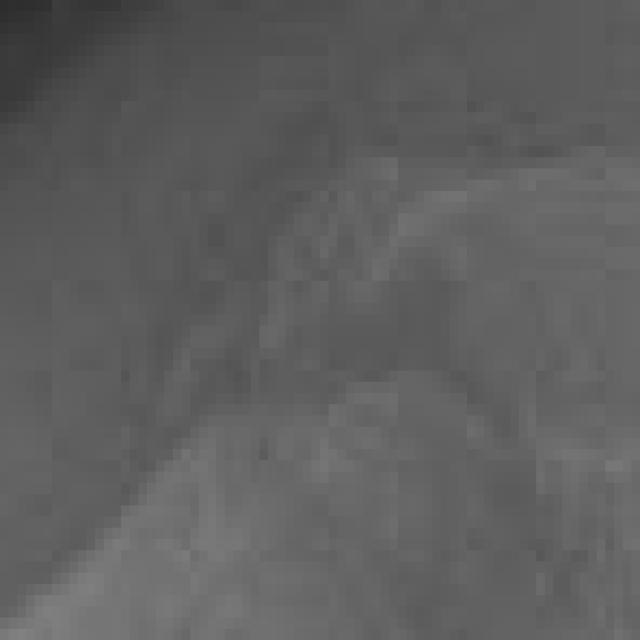fracture: (4, 5, 640, 640)
